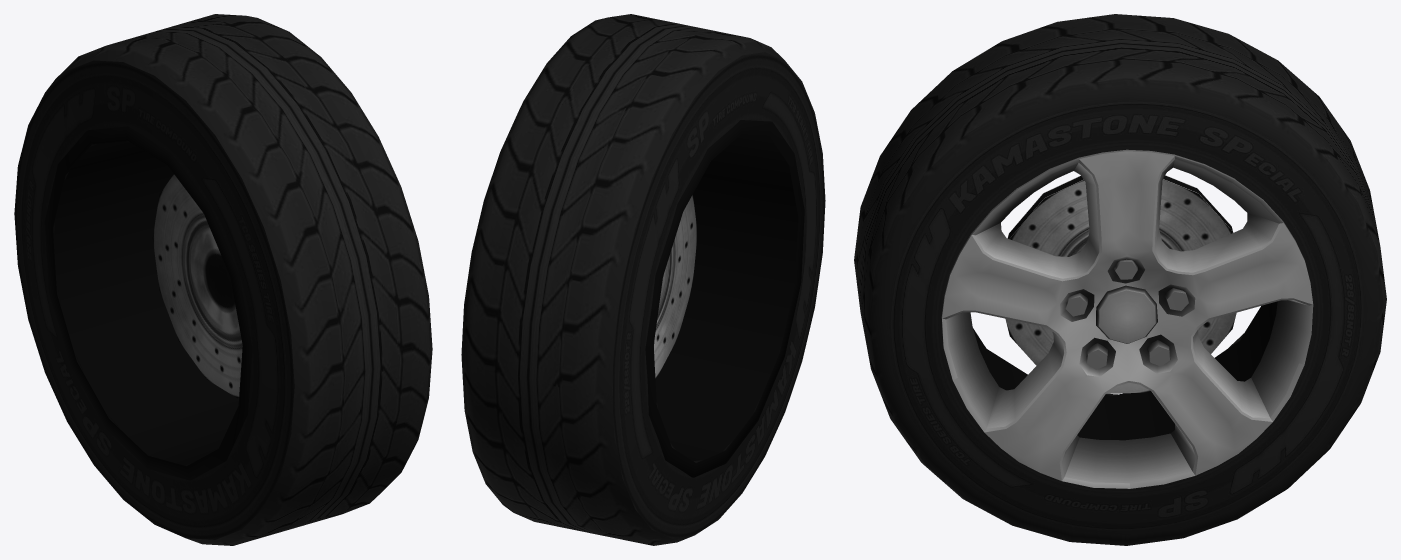
Rendered from tozzo98_wheelstock_rr_rb1c_tire_1k_0.006_lev3.glb.
The picture shows the model from 3 angles, left to right: view 1: azimuth 30°, elevation 25°; view 2: azimuth 150°, elevation 25°; view 3: azimuth 270°, elevation 25°; orthographic projection.
Visible parts, largest first — view 1: tozzo98_wheelstock_rr_rb1c_tire_1k_0.006_lev3; view 2: tozzo98_wheelstock_rr_rb1c_tire_1k_0.006_lev3; view 3: tozzo98_wheelstock_rr_rb1c_tire_1k_0.006_lev3.
Boxes of the visible parts, x1,y1,x2,y2 form: tozzo98_wheelstock_rr_rb1c_tire_1k_0.006_lev3: [14, 14, 432, 545]; tozzo98_wheelstock_rr_rb1c_tire_1k_0.006_lev3: [461, 14, 825, 545]; tozzo98_wheelstock_rr_rb1c_tire_1k_0.006_lev3: [854, 14, 1386, 545].
Bounding box in the file's own units: 0.2557 × 0.6113 × 0.6216.
Materials: 1 (1 with a texture image).
